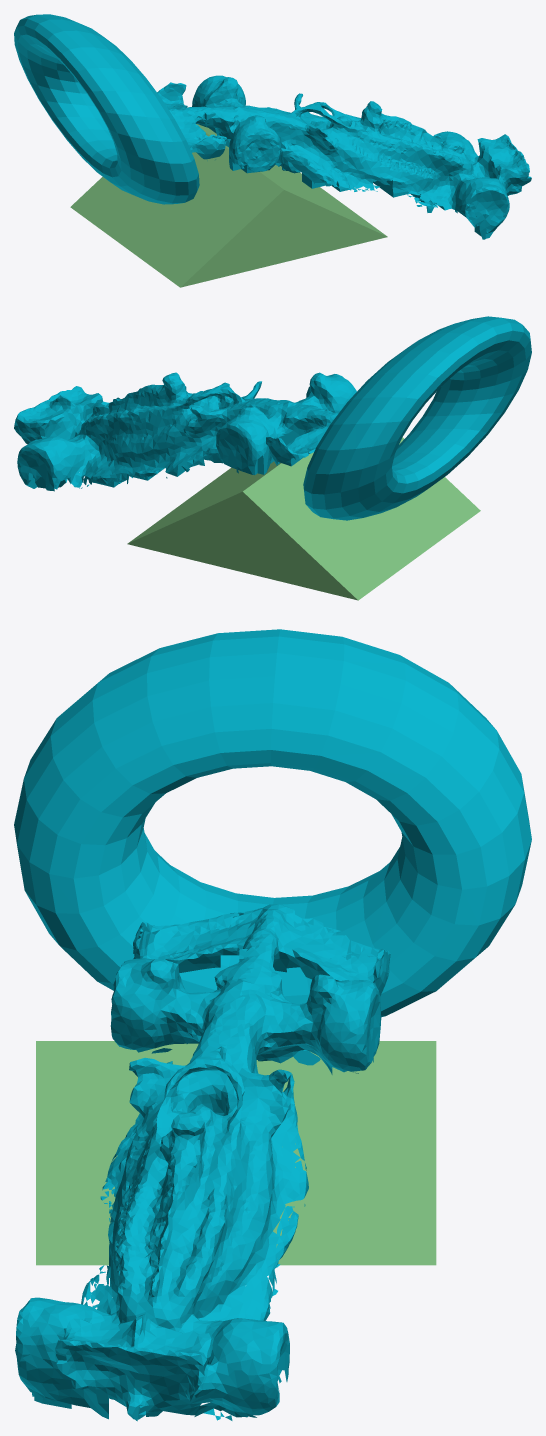
The model's file is tinkered.glb.
3 renders of one model, top to bottom at view 1: azimuth 30°, elevation 25°; view 2: azimuth 150°, elevation 25°; view 3: azimuth 270°, elevation 25°, orthographic. The views are drawn at different scales.
Parts seen in each view (by area): view 1: Mesh_Mesh_head_geo.001_lambert2SG.001; view 2: Mesh_Mesh_head_geo.001_lambert2SG.001; view 3: Mesh_Mesh_head_geo.001_lambert2SG.001.
Part boxes in pixels (left/top/right/bottom): Mesh_Mesh_head_geo.001_lambert2SG.001: left=14, top=14, right=531, bottom=287; Mesh_Mesh_head_geo.001_lambert2SG.001: left=14, top=316, right=531, bottom=600; Mesh_Mesh_head_geo.001_lambert2SG.001: left=14, top=629, right=531, bottom=1421.
Bounding box in the file's own units: 102 × 54.1 × 56.94.
